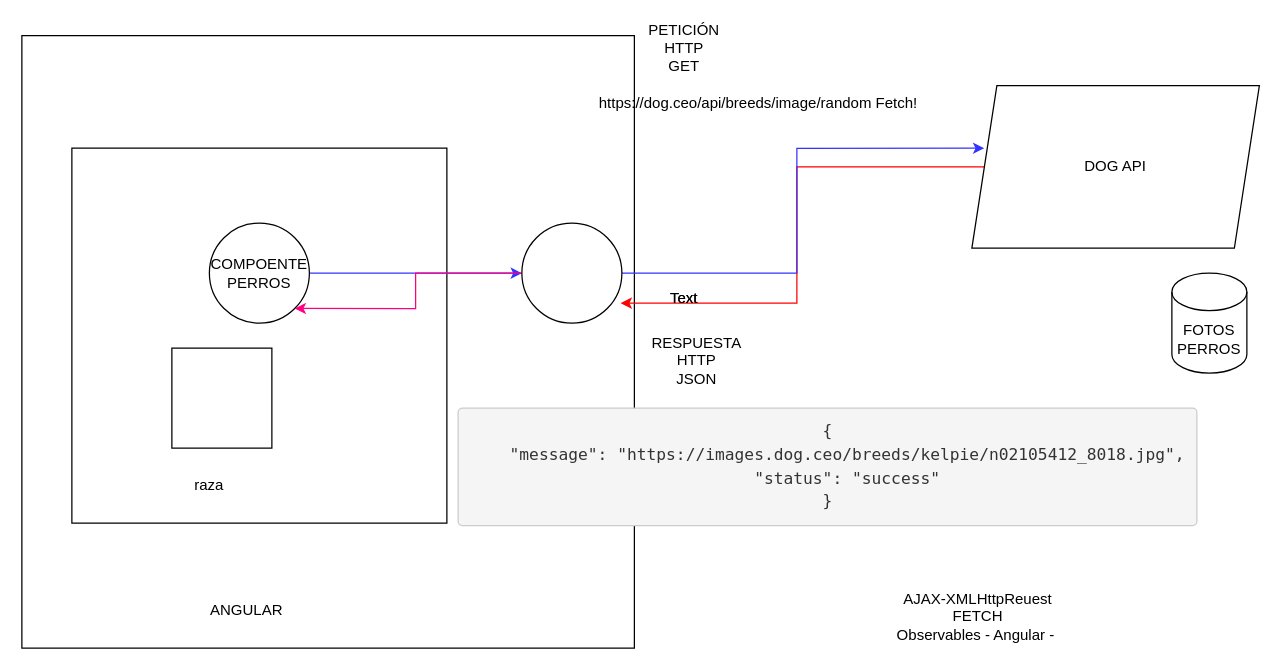
Image size: 1281x670. Some labels were removed from this diagram. Here are the shapes that lost their labels. From the top down, the centre of each, then its label:
point 571,272: SERVICIO
point 221,397: foto perro
